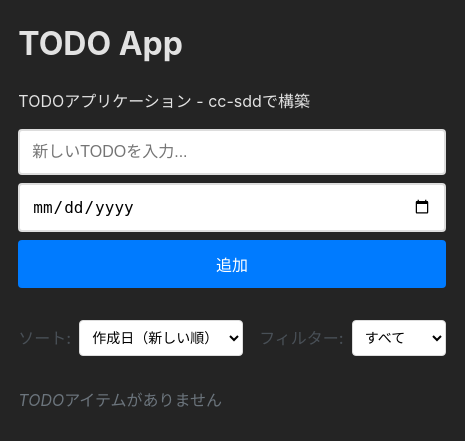
Test case: App - E2E Integration Tests › 空のタイトルでアイテムを作成できない
This screenshot has width=465, height=441.
Click the button "追加": (232, 264) [18,240,446,288]
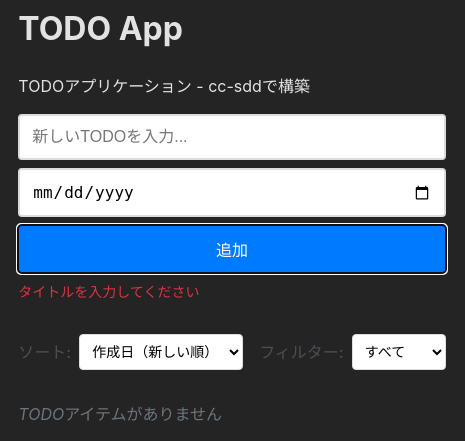
Expected: the text "TODOアイテムがありません" is shown, [18,404,222,424]
Result: the text "タイトルを入力してください" is shown at [18,283,200,300]
